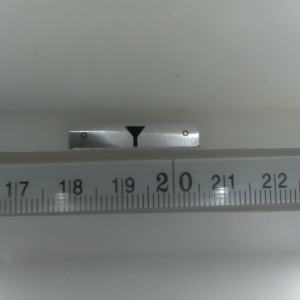0: (179, 171, 192, 192)
1: (4, 181, 11, 197), (227, 174, 234, 189), (58, 180, 65, 195), (111, 177, 117, 193)
2: (156, 172, 169, 192), (210, 174, 220, 190), (277, 173, 287, 188), (262, 173, 271, 188)
7: (19, 181, 29, 197)
8: (72, 179, 82, 194)
9: (124, 176, 135, 193)
finger: (123, 126, 146, 148)
